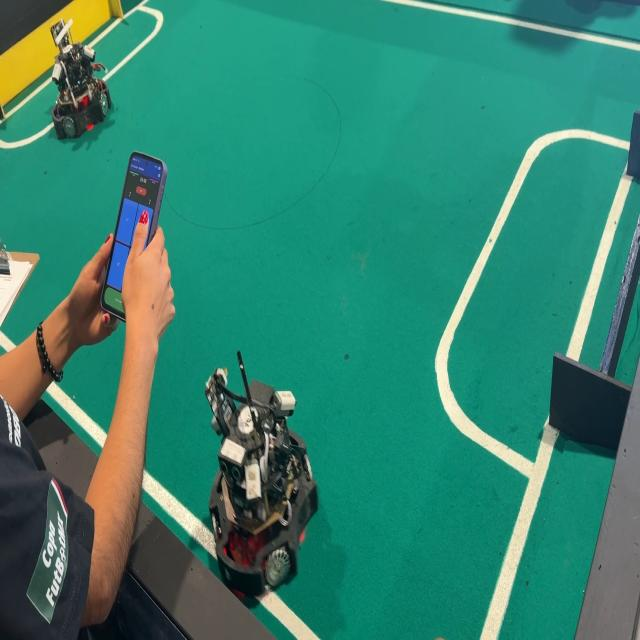Robot: (182, 346, 323, 608), (41, 6, 122, 153)
